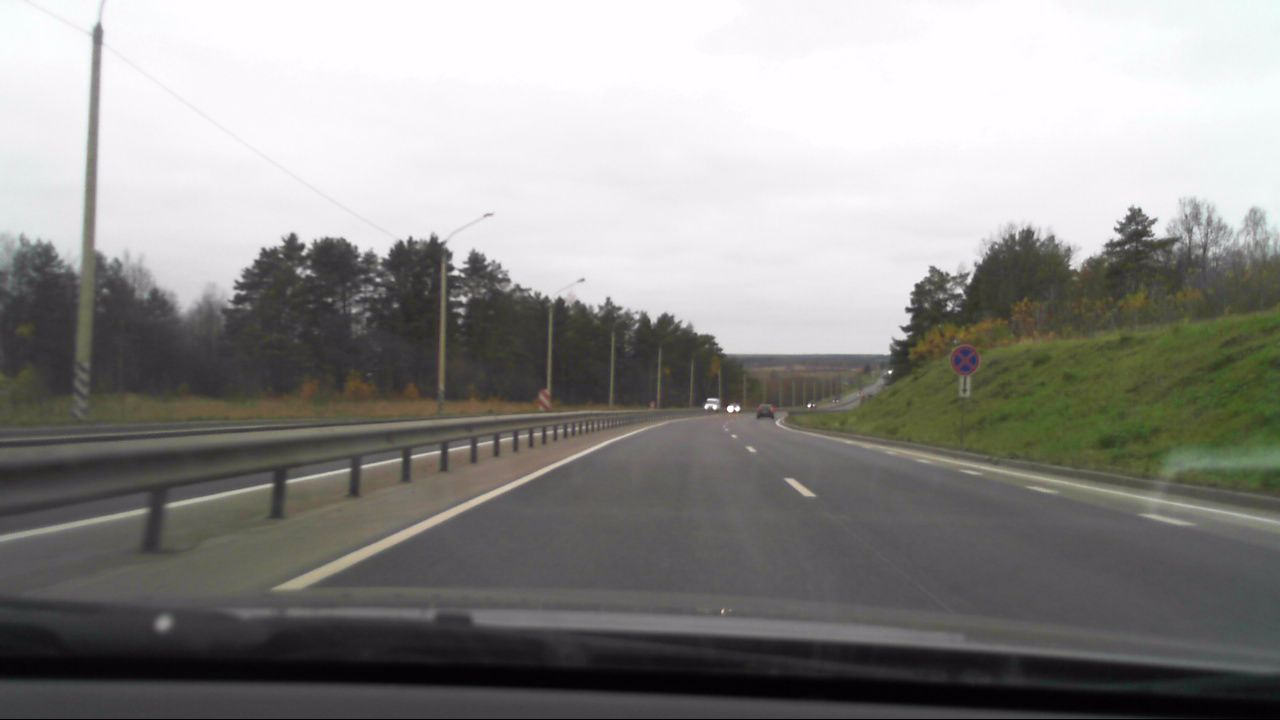No Parking: (949, 343, 978, 374)
